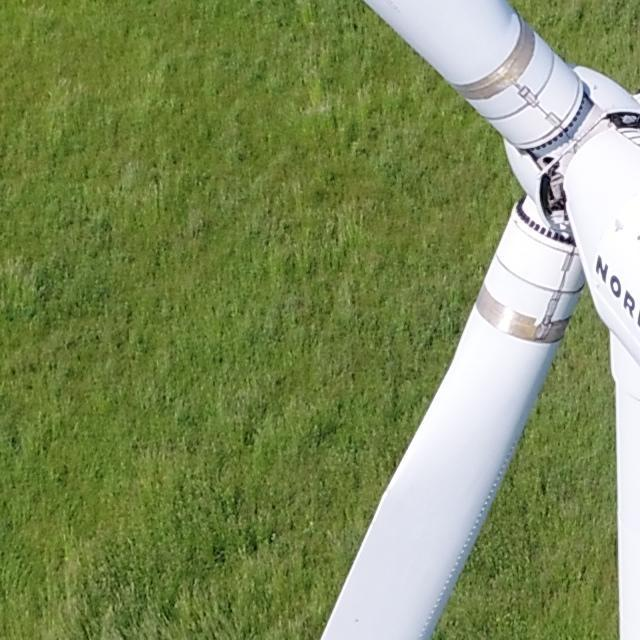damage: (610, 215, 630, 234)
